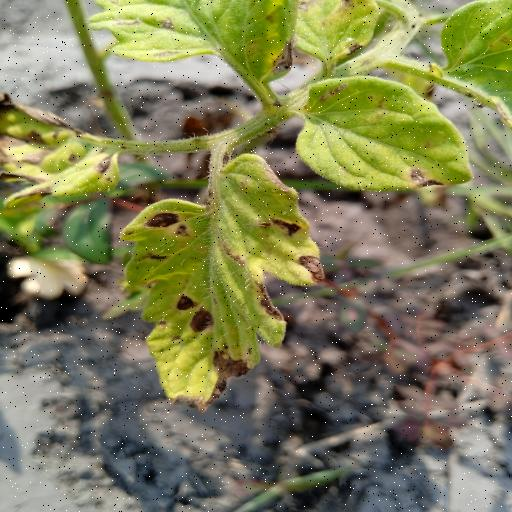Tomato_Brown_Spots: (120, 150, 326, 409), (294, 76, 476, 196)
